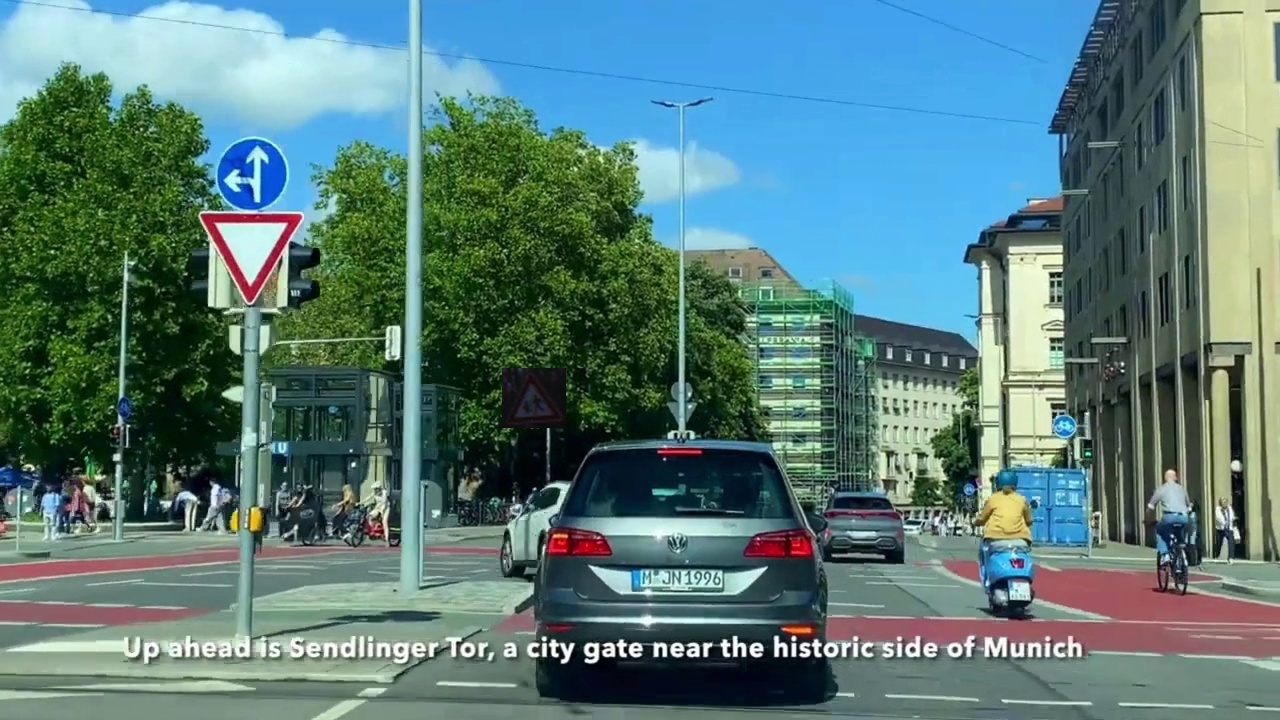Children: (502, 368, 566, 428)
